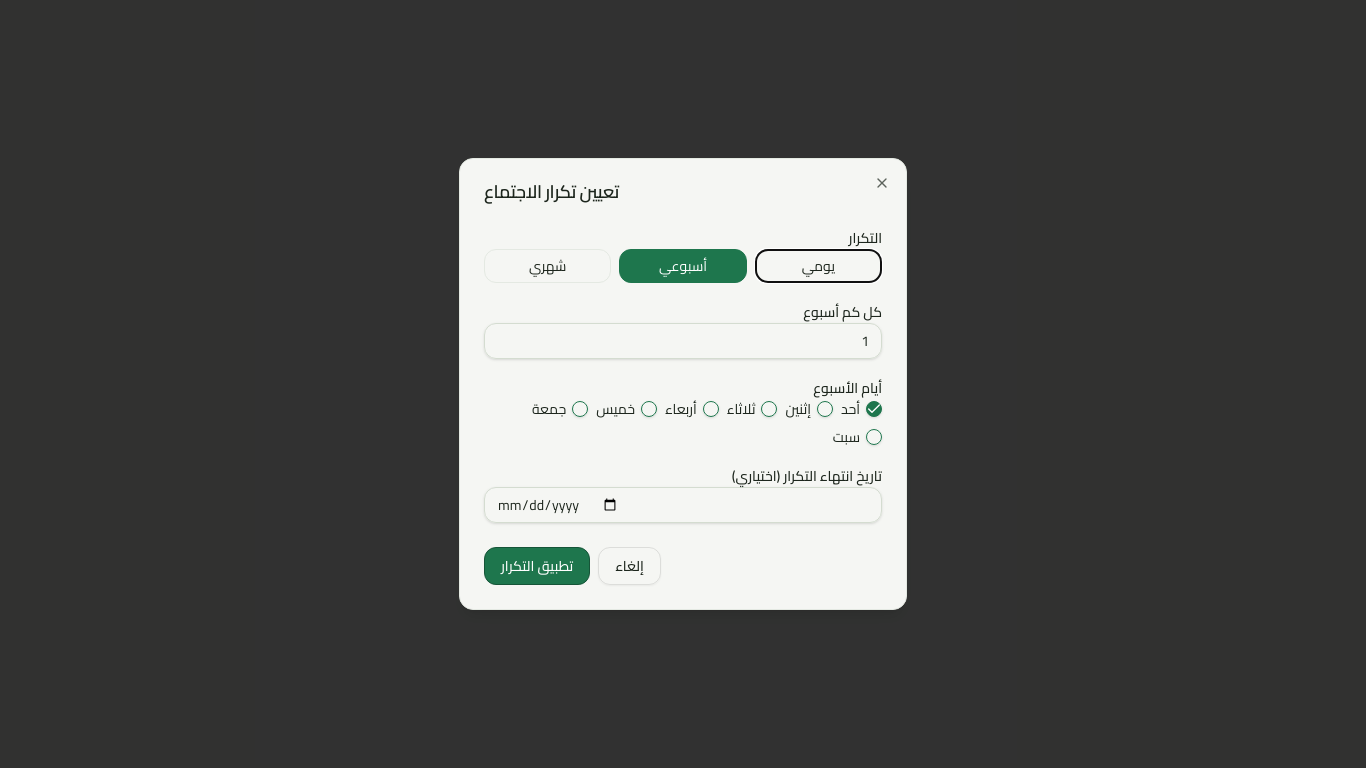
it: RecurringMeetingDialog › hides weekday checkboxes when daily is selected
Click the button "يومي".
click(818, 266)  # box [755,249,882,283]
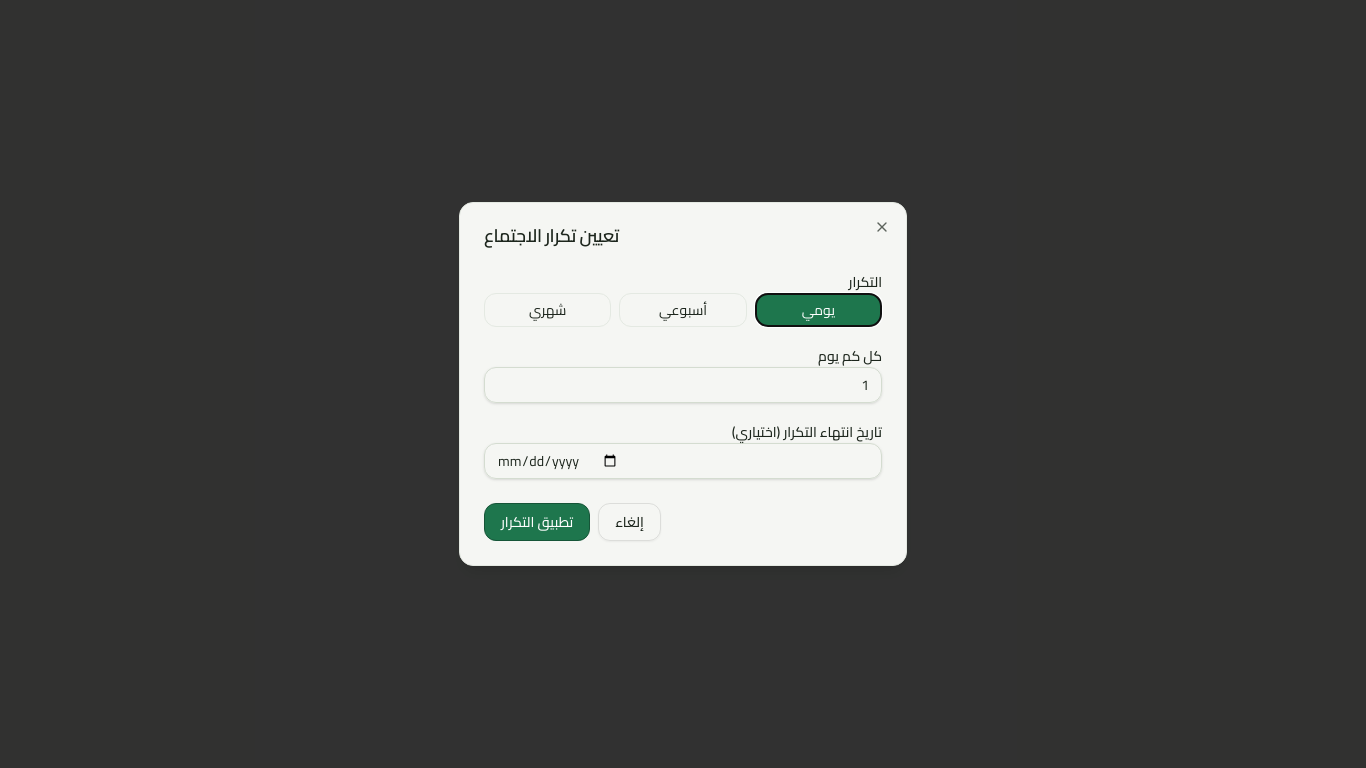
Expected: the text "إثنين" is gone
